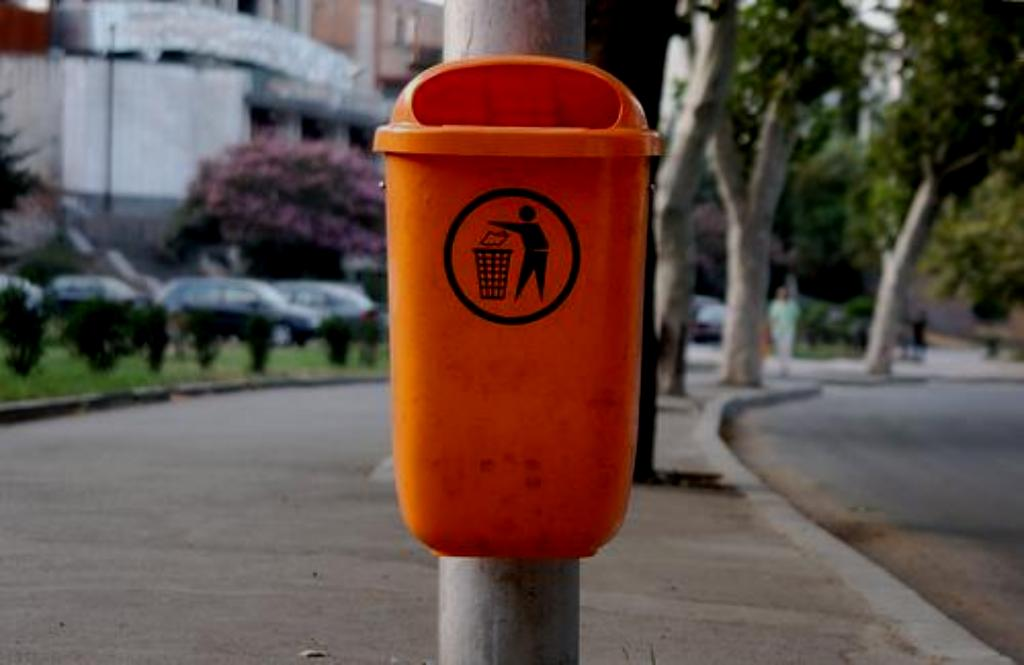dustbin: (343, 69, 688, 567)
